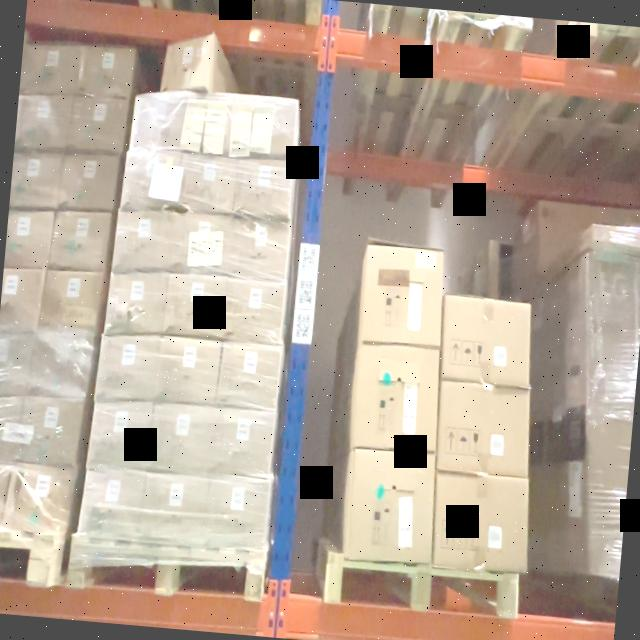box: (344, 451, 435, 564), (434, 471, 528, 574), (353, 342, 439, 452), (438, 381, 528, 476), (440, 294, 530, 386), (359, 247, 444, 343), (140, 472, 210, 548), (204, 474, 270, 553), (148, 400, 216, 476), (78, 467, 146, 538), (6, 463, 71, 535), (95, 331, 161, 401), (19, 394, 82, 466), (212, 408, 274, 480), (165, 270, 228, 340), (157, 336, 221, 404), (90, 400, 152, 468), (32, 328, 92, 398), (222, 277, 286, 342), (218, 342, 281, 408), (228, 214, 290, 278), (170, 212, 232, 276), (104, 274, 168, 336), (113, 208, 174, 273), (230, 96, 298, 154), (42, 267, 102, 332), (178, 152, 238, 216), (121, 147, 181, 210), (59, 150, 118, 212), (68, 94, 128, 153), (52, 208, 109, 270), (19, 40, 80, 96), (234, 156, 292, 214), (76, 44, 134, 98), (14, 94, 72, 146), (160, 32, 212, 89), (132, 95, 184, 148), (186, 92, 234, 144)
